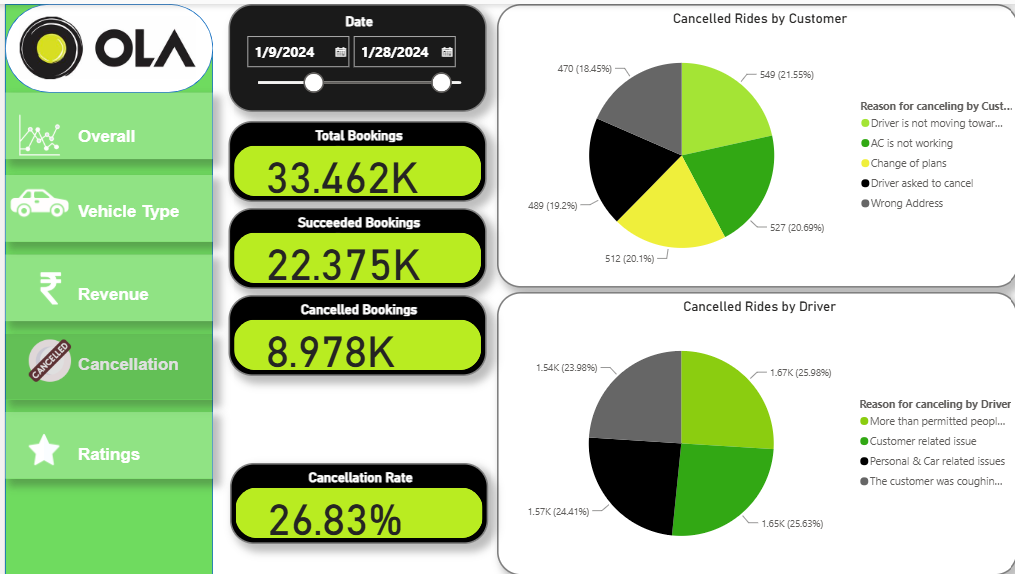

Layout of this report page (visuals, bound fields, positions):
{"tool":"powerbi","page":{"name":"Cancellation","canvas":[1280,720],"ordinal":3},"visuals":[{"type":"shape","box":[0,0,261.9,720.6],"z":0},{"type":"image","box":[0,133.3,87.3,61.9],"z":1000},{"type":"textbox","box":[87.3,149.2,104.8,46],"z":2000},{"type":"textbox","box":[87.3,244.4,157.1,54],"z":3000},{"type":"textbox","box":[87.3,347.6,174.6,36.5],"z":4000},{"type":"textbox","box":[87.3,436.5,146,39.7],"z":5000},{"type":"textbox","box":[87.3,549.2,174.6,41.3],"z":6000},{"type":"image","box":[0,214.3,87.3,84.1],"z":7000},{"type":"image","box":[0,333.3,115.9,50.8],"z":8000},{"type":"image","box":[23.8,412.7,63.5,74.6],"z":9000},{"type":"image","box":[23.8,530.2,49.2,60.3],"z":10000},{"type":"actionButton","box":[0,412.9,262.3,93.9],"z":11000},{"type":"actionButton","box":[0,111.7,262.3,84.2],"z":12000},{"type":"actionButton","box":[0,215.4,262.3,84.2],"z":13000},{"type":"actionButton","box":[0,514.9,262.3,84.2],"z":14000},{"type":"actionButton","box":[0,315.9,261.9,84.1],"z":15000},{"type":"shape","box":[0,0,262.3,111.7],"z":16000},{"type":"image","box":[12.7,0,231.7,111.1],"z":17000},{"type":"actionButton","box":[0,416.1,262.3,82.6],"z":18000},{"type":"pieChart","title":"Cancelled Rides by Customer","fields":{"Category":["indore ola dataset(1).Reason for canceling by Customer"],"Y":["CountNonNull(indore ola dataset(1).Reason for canceling by Customer)"]},"box":[620.6,0,658.7,357.1],"z":19000},{"type":"pieChart","title":"Cancelled Rides by Driver","fields":{"Category":["indore ola dataset(1).Reason for canceling by Driver"],"Y":["CountNonNull(indore ola dataset(1).Reason for canceling by Driver)"]},"box":[619.8,362.8,657.6,357.2],"z":20000},{"type":"slicer","title":"Date","fields":{"Values":["indore ola dataset(1).Date"]},"box":[281.7,0,325.5,136],"z":21000},{"type":"cardVisual","title":"Total Bookings","fields":{"Data":["CountNonNull(indore ola dataset(1).Booking ID)"]},"box":[281.6,147.4,325,102],"z":22000},{"type":"cardVisual","title":"Succeeded Bookings","fields":{"Data":["CountNonNull(indore ola dataset(1).Booking ID)"]},"box":[281.6,257,325,102],"z":23000},{"type":"cardVisual","title":"Cancelled Bookings","fields":{"Data":["CountNonNull(indore ola dataset(1).Booking ID)"]},"box":[281.6,366.6,325,102],"z":24000},{"type":"cardVisual","title":"Cancellation Rate","fields":{"Data":["indore ola dataset(1).Canceledbookings"]},"box":[283.4,578.1,325.5,102],"z":25001}]}

Visuals, with their boxes in screenshot pixels (x1, y1, x2, y2), scaled from the page's 1280x720 canvas onto the 1015x574 screenshot:
shape: box=[0, 0, 208, 573]
image: box=[0, 106, 69, 156]
textbox: box=[69, 119, 152, 156]
textbox: box=[69, 195, 194, 238]
textbox: box=[69, 277, 208, 306]
textbox: box=[69, 348, 185, 380]
textbox: box=[69, 438, 208, 471]
image: box=[0, 171, 69, 238]
image: box=[0, 266, 92, 306]
image: box=[19, 329, 69, 388]
image: box=[19, 423, 58, 471]
actionButton: box=[0, 329, 208, 404]
actionButton: box=[0, 89, 208, 156]
actionButton: box=[0, 172, 208, 239]
actionButton: box=[0, 410, 208, 478]
actionButton: box=[0, 252, 208, 319]
shape: box=[0, 0, 208, 89]
image: box=[10, 0, 194, 89]
actionButton: box=[0, 332, 208, 398]
"Cancelled Rides by Customer" pieChart: box=[492, 0, 1014, 285]
"Cancelled Rides by Driver" pieChart: box=[491, 289, 1013, 573]
"Date" slicer: box=[223, 0, 481, 108]
"Total Bookings" cardVisual: box=[223, 118, 481, 199]
"Succeeded Bookings" cardVisual: box=[223, 205, 481, 286]
"Cancelled Bookings" cardVisual: box=[223, 292, 481, 374]
"Cancellation Rate" cardVisual: box=[225, 461, 483, 542]
